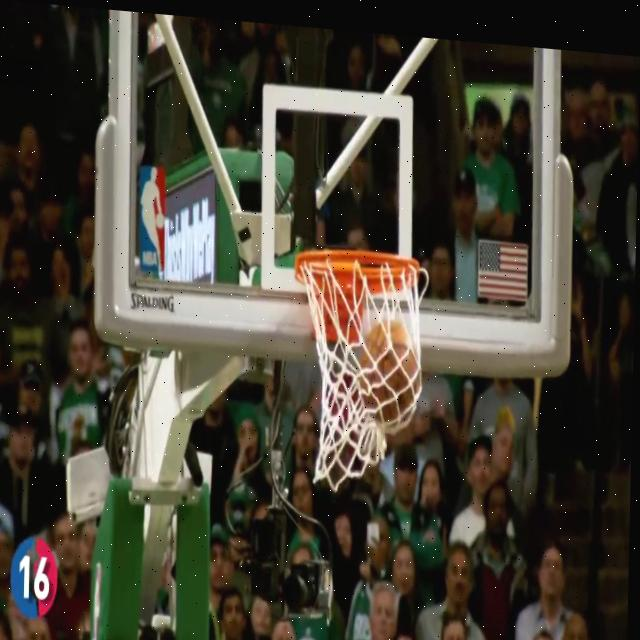basketball: (358, 314, 425, 442)
hoop: (288, 240, 431, 503), (288, 239, 431, 502)
